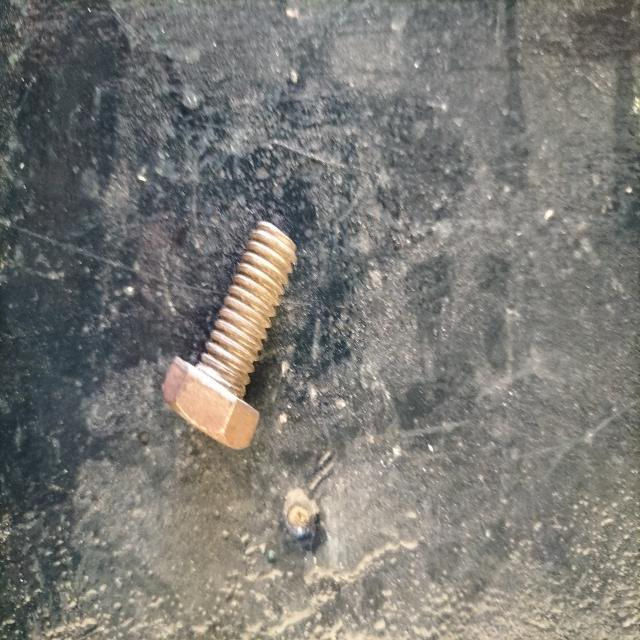bolt: (160, 220, 297, 449)
